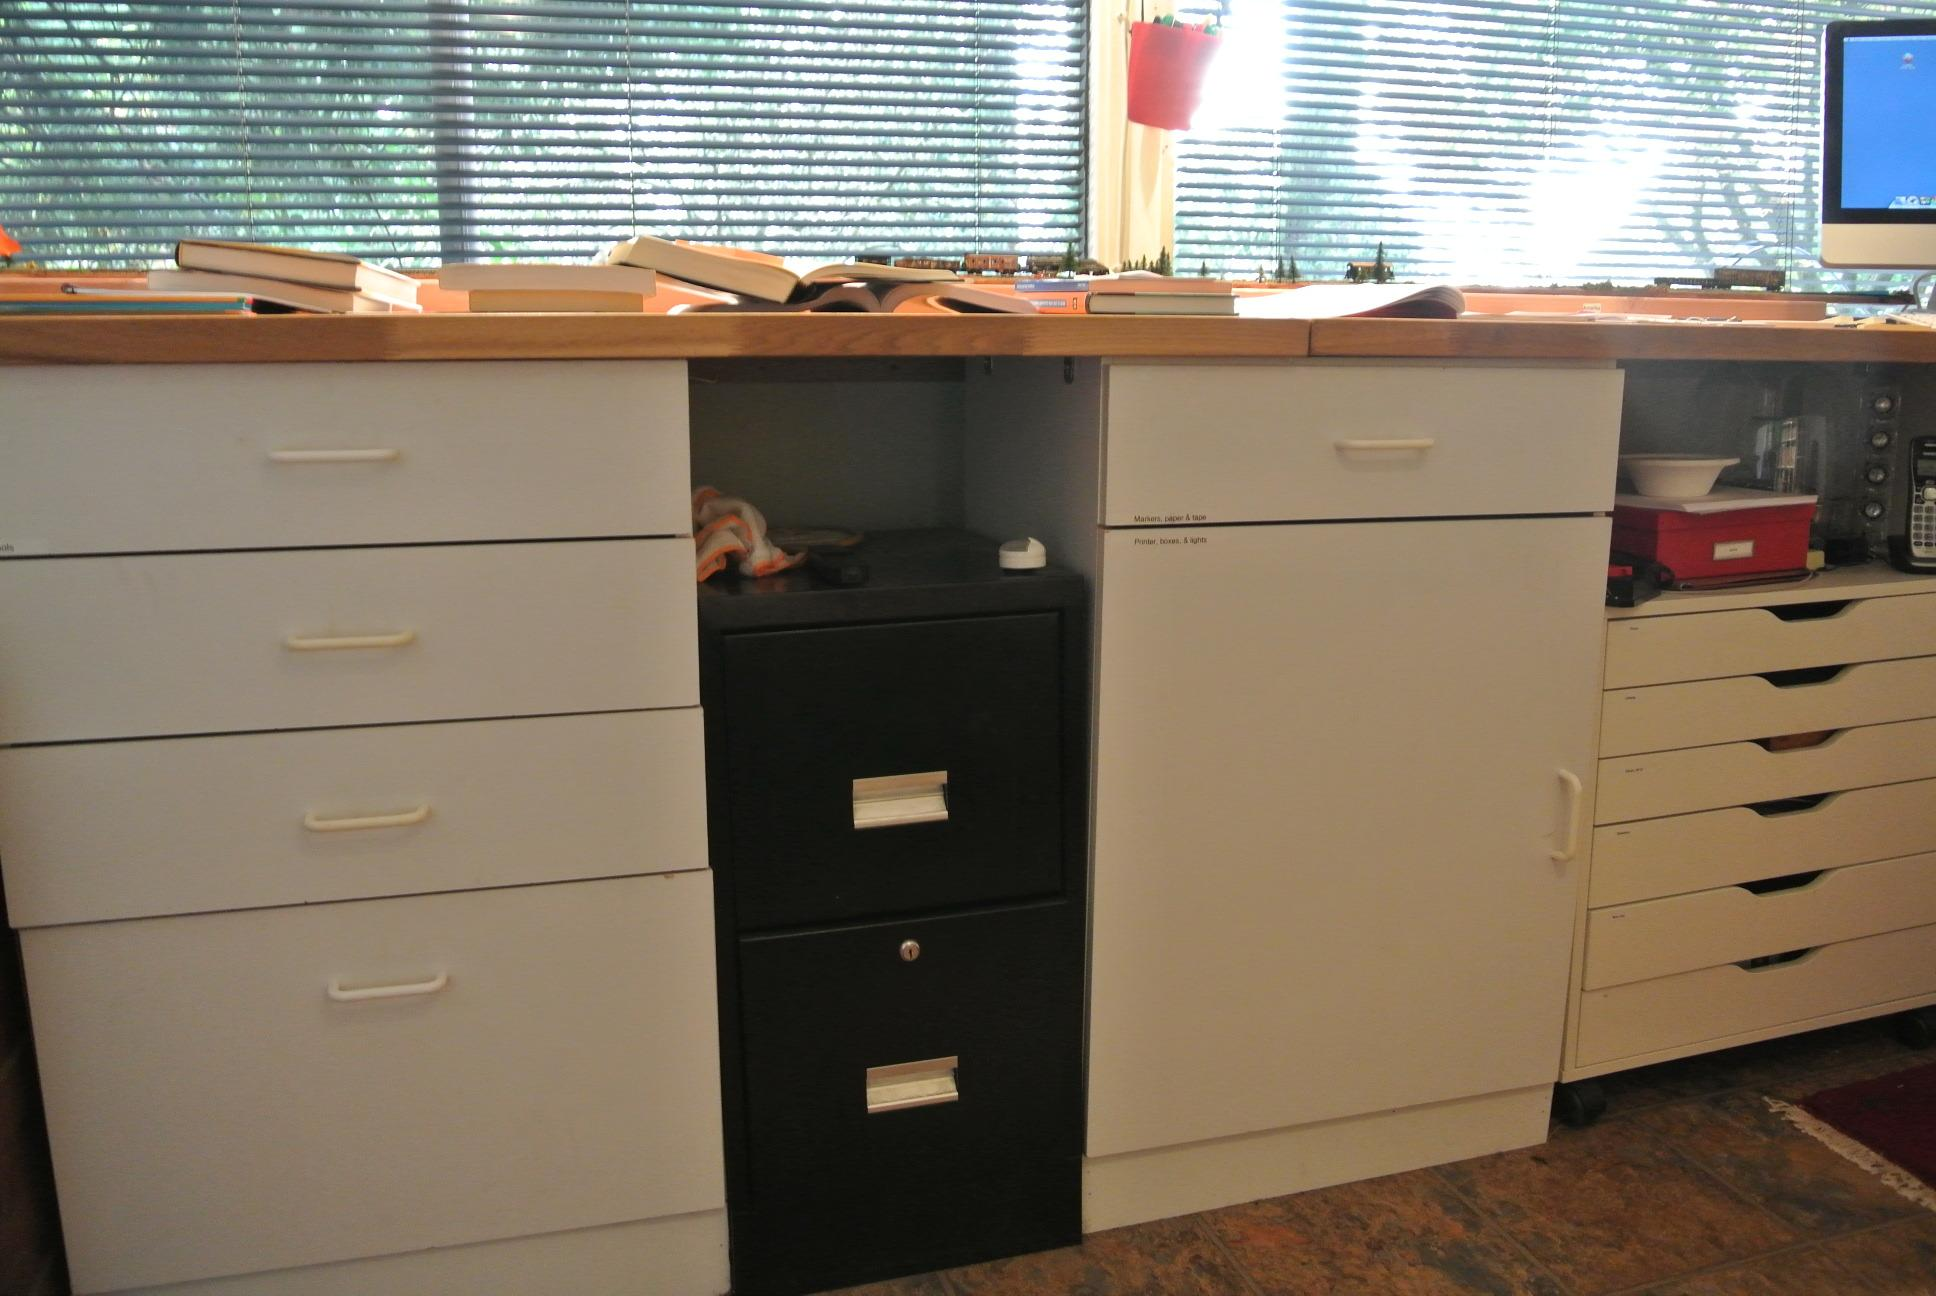cabinet_door: (1112, 535, 1590, 1075), (16, 904, 727, 1253), (1, 525, 698, 732), (0, 363, 708, 532), (33, 723, 711, 894), (711, 631, 1077, 913), (720, 916, 1080, 1195), (1103, 359, 1606, 525), (1590, 969, 1936, 1072), (1611, 558, 1936, 661), (1588, 871, 1936, 965), (1599, 791, 1936, 877), (1618, 655, 1936, 742), (1575, 729, 1936, 797)
handle: (836, 759, 964, 836), (278, 613, 428, 670), (298, 796, 445, 842), (1330, 421, 1450, 474), (318, 973, 453, 1021), (870, 1046, 961, 1114), (263, 435, 406, 476), (1747, 783, 1843, 833), (1738, 934, 1830, 985), (1739, 862, 1839, 908), (1549, 765, 1588, 878), (1749, 722, 1848, 761), (1757, 662, 1856, 699), (1771, 589, 1856, 625)
